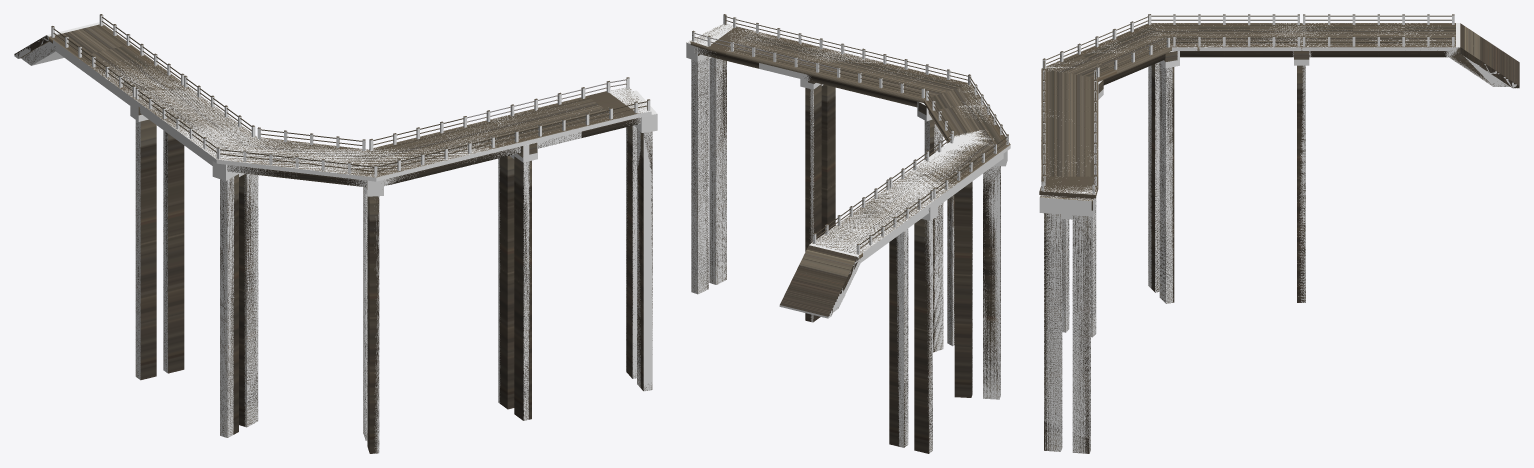
The model's file is objects_un_alongthecoast01.gltf.
3 renders of one model, left to right at view 1: azimuth 30°, elevation 25°; view 2: azimuth 150°, elevation 25°; view 3: azimuth 270°, elevation 25°, orthographic. The views are drawn at different scales.
Visible parts, largest first — view 1: um_objects_un_alongthecoast01_model_lod0Shape:objects_un_alo (×3), um_objects_un_alongthecoast01_model_lod1Shape:objects_un_alo (×2); view 2: um_objects_un_alongthecoast01_model_lod0Shape:objects_un_alo (×3), um_objects_un_alongthecoast01_model_lod1Shape:objects_un_alo (×2), um_objects_un_alongthecoast01_model_lod2Shape:objects_un_alo; view 3: um_objects_un_alongthecoast01_model_lod0Shape:objects_un_alo (×3), um_objects_un_alongthecoast01_model_lod1Shape:objects_un_alo (×2), um_objects_un_alongthecoast01_model_lod2Shape:objects_un_alo.
Part boxes in pixels (x1,y1,x2,y2): um_objects_un_alongthecoast01_model_lod0Shape:objects_un_alo (×3): [14, 14, 657, 453]; um_objects_un_alongthecoast01_model_lod1Shape:objects_un_alo (×2): [19, 24, 643, 453]; um_objects_un_alongthecoast01_model_lod0Shape:objects_un_alo (×3): [686, 14, 1010, 453]; um_objects_un_alongthecoast01_model_lod1Shape:objects_un_alo (×2): [697, 26, 1010, 453]; um_objects_un_alongthecoast01_model_lod2Shape:objects_un_alo: [780, 245, 858, 316]; um_objects_un_alongthecoast01_model_lod0Shape:objects_un_alo (×3): [1039, 14, 1519, 453]; um_objects_un_alongthecoast01_model_lod1Shape:objects_un_alo (×2): [1039, 23, 1508, 453]; um_objects_un_alongthecoast01_model_lod2Shape:objects_un_alo: [1456, 23, 1519, 88].
Bounding box in the file's own units: 50.78 × 36.35 × 59.07.
Materials: 4 (3 with a texture image).
